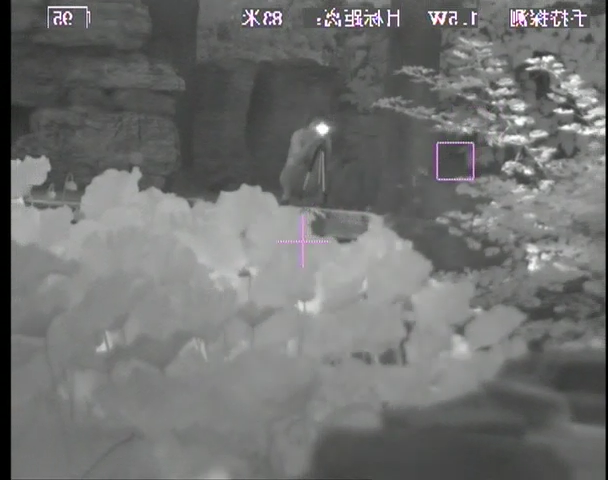my: (314, 122, 331, 137)
